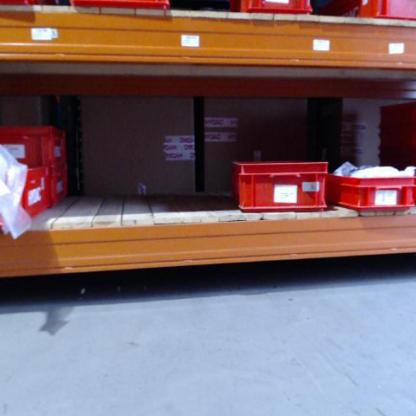small_load_carrier: (229, 153, 329, 216), (326, 167, 414, 214), (1, 121, 73, 167), (10, 166, 48, 226), (335, 3, 413, 27), (41, 164, 74, 208), (72, 3, 173, 16), (230, 3, 306, 17)
